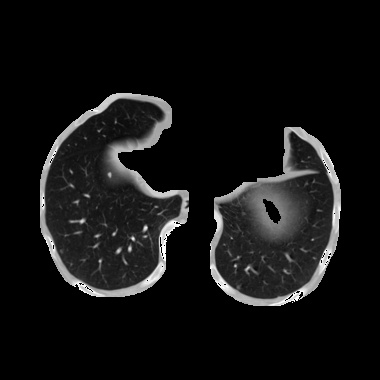PN: (107, 172, 111, 176)
